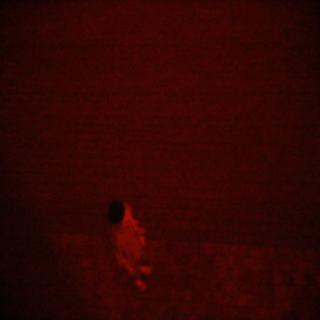person: (94, 186, 167, 293)
